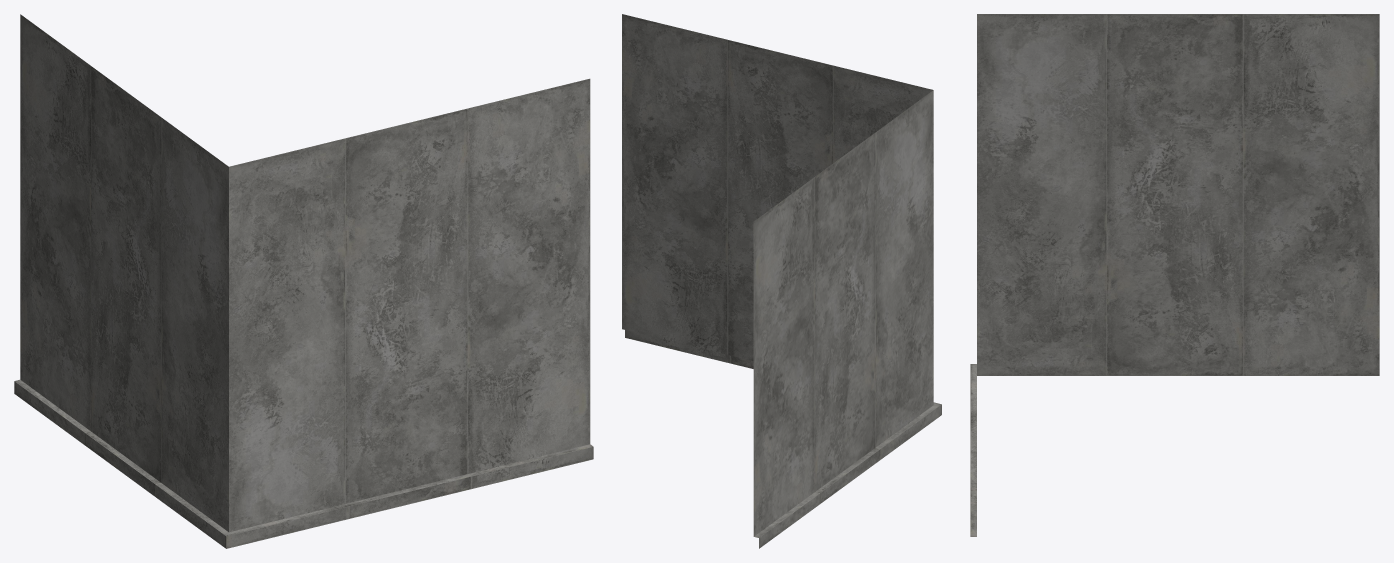
File: wall_corner_exterior.fbx
The picture shows the model from 3 angles, left to right: view 1: azimuth 30°, elevation 25°; view 2: azimuth 150°, elevation 25°; view 3: azimuth 270°, elevation 25°; orthographic projection. The views are drawn at different scales.
Parts seen in each view (by area): view 1: Wall_CornerExterior; view 2: Wall_CornerExterior; view 3: Wall_CornerExterior.
Boxes of the visible parts, left/top/right/bottom form: Wall_CornerExterior: left=14, top=14, right=593, bottom=548; Wall_CornerExterior: left=622, top=14, right=941, bottom=548; Wall_CornerExterior: left=970, top=14, right=1379, bottom=536.
Size of the model in its own units: 120 by 118 by 120.
1 material, 1 textured.
